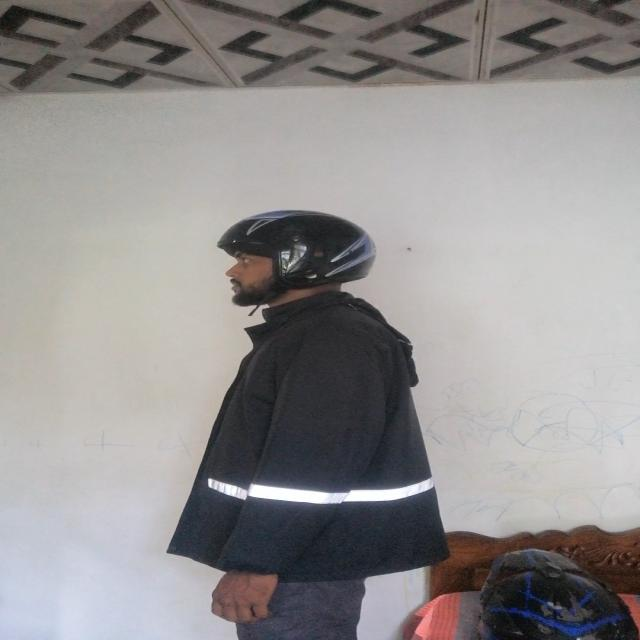Helmet_Wearer: (204, 205, 373, 313)
Jacket_Wearer: (190, 301, 440, 567)
Person: (182, 204, 462, 640)
